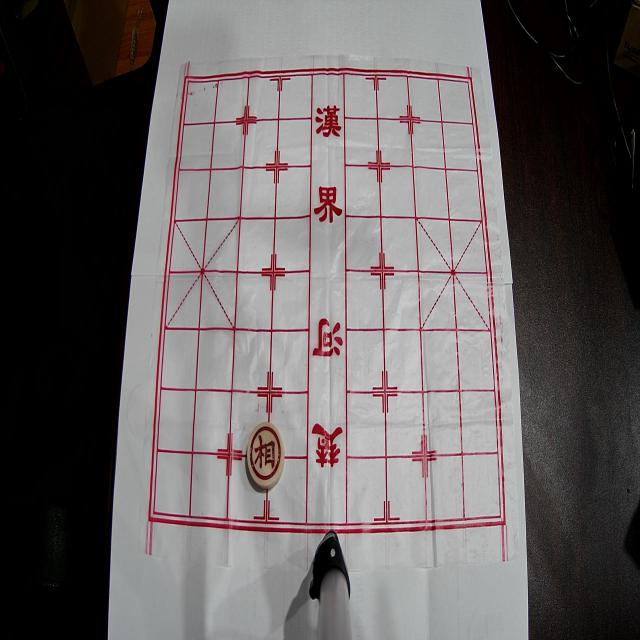red-elephant: (248, 422, 284, 489)
